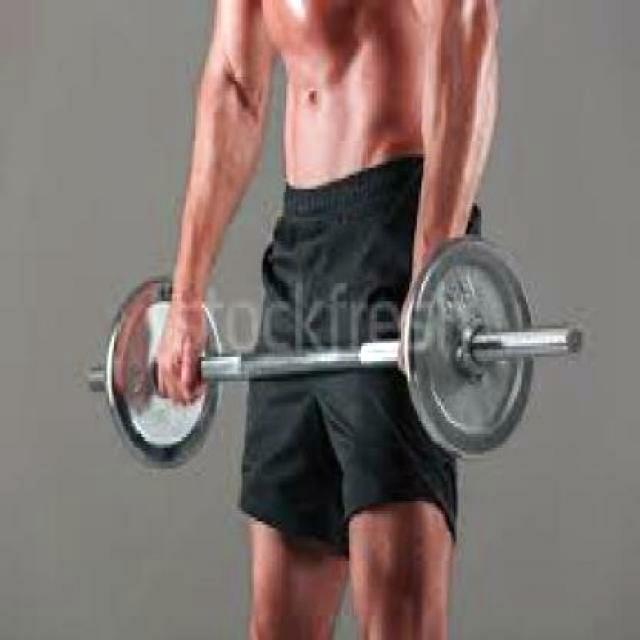barbell: (402, 232, 590, 464)
